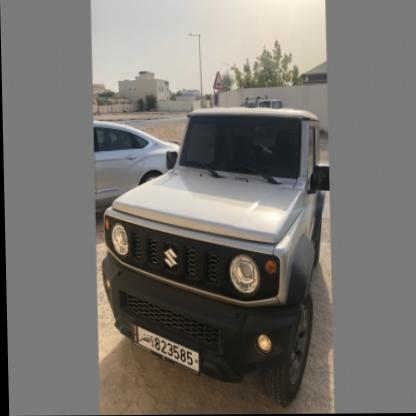np: (129, 319, 200, 381)
